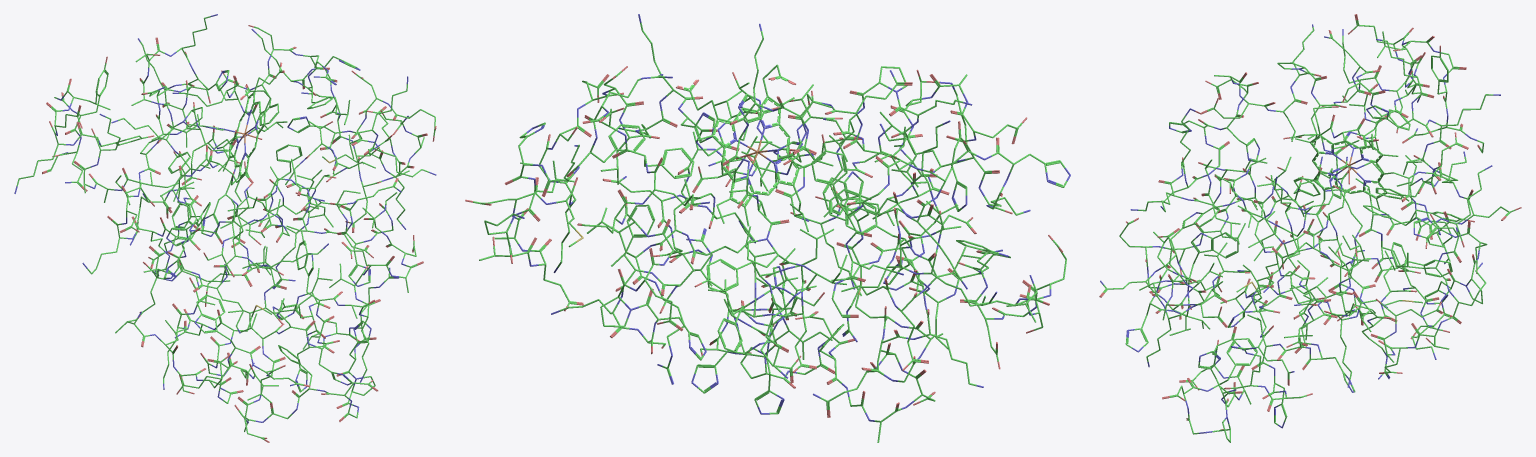
The model's file is 1mbn__lines__default.glb.
The picture shows the model from 3 angles, left to right: view 1: azimuth 30°, elevation 25°; view 2: azimuth 150°, elevation 25°; view 3: azimuth 270°, elevation 25°; orthographic projection. The views are drawn at different scales.
Parts seen in each view (by area): view 1: Renderer Node; view 2: Renderer Node; view 3: Renderer Node.
Part boxes in pixels (bbox=[...]): Renderer Node: bbox=[14, 14, 436, 442]; Renderer Node: bbox=[465, 14, 1070, 442]; Renderer Node: bbox=[1099, 14, 1521, 442].
Bounding box in the file's own units: 42.81 × 38.98 × 39.04.
